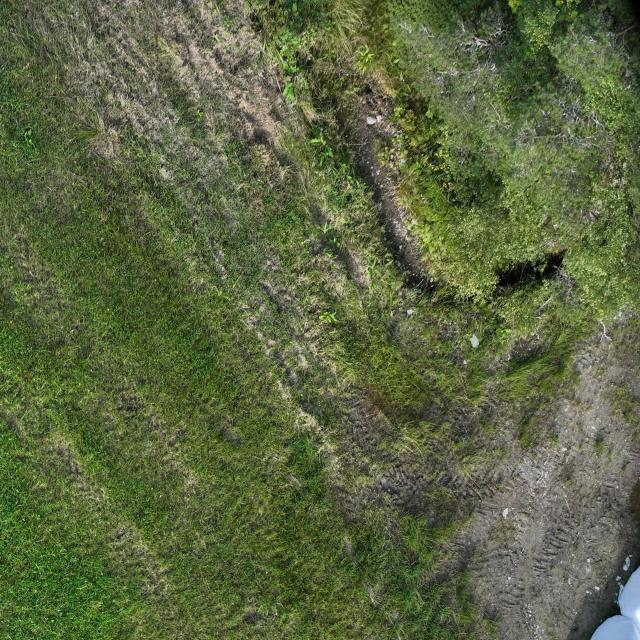rumex: (320, 218, 342, 262), (346, 173, 368, 208), (274, 42, 294, 74), (355, 44, 375, 76), (282, 79, 298, 106), (309, 131, 329, 149), (21, 128, 35, 150), (322, 222, 332, 235), (324, 144, 333, 158), (369, 258, 377, 272), (318, 153, 325, 168), (195, 109, 203, 122), (26, 129, 32, 139)
